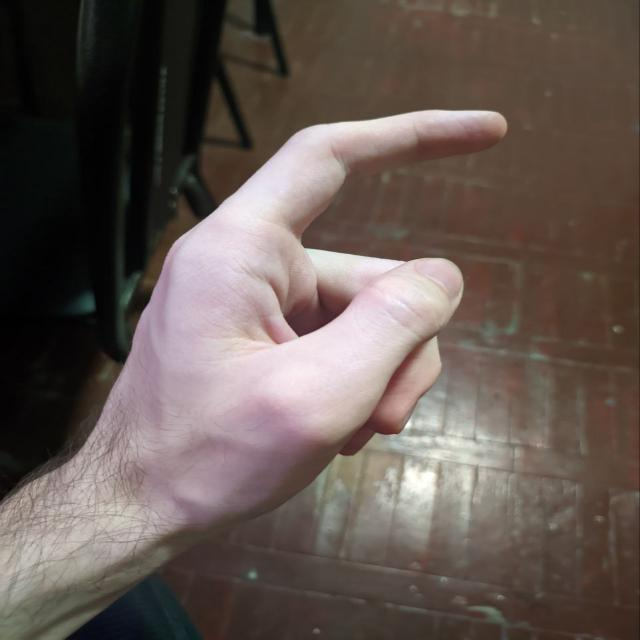kh: (95, 86, 508, 512)
